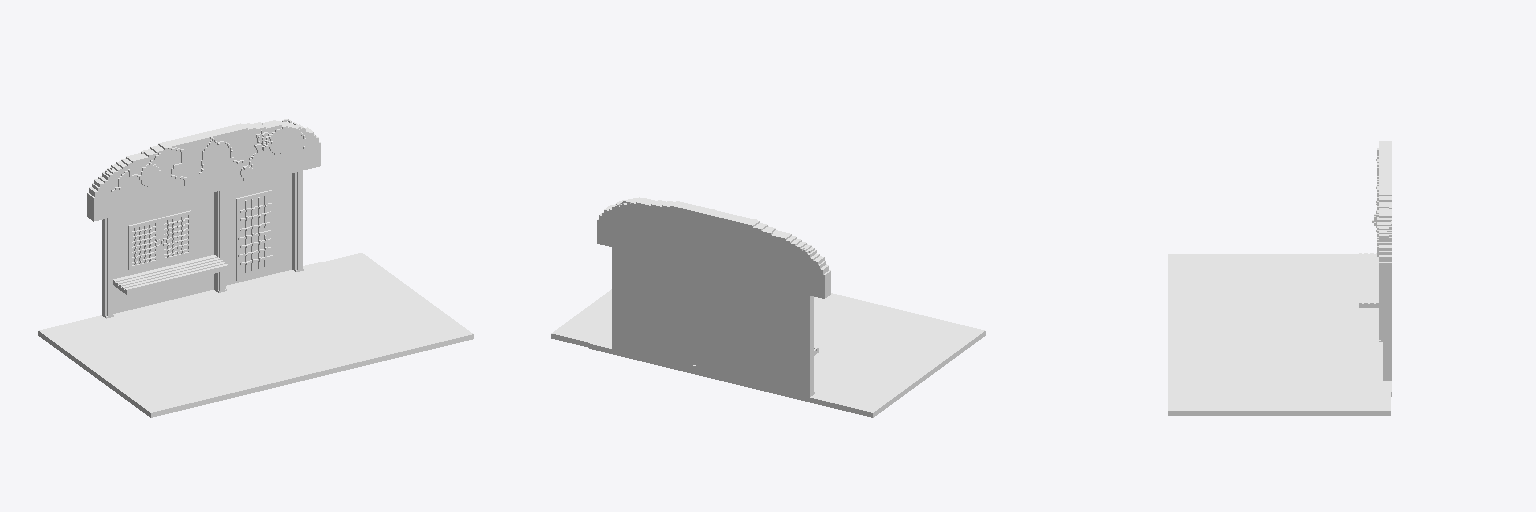
The model's file is Heungbu&Nolbu.obj.
3 renders of one model, left to right at view 1: azimuth 30°, elevation 25°; view 2: azimuth 150°, elevation 25°; view 3: azimuth 270°, elevation 25°, orthographic.
Parts seen in each view (by area): view 1: object 1; view 2: object 1; view 3: object 1.
Boxes of the visible parts, x1,y1,x2,y2 form: object 1: [38, 119, 473, 417]; object 1: [551, 197, 985, 417]; object 1: [1168, 141, 1391, 415].
Size of the model in its own units: 19.9 by 9.6 by 12.